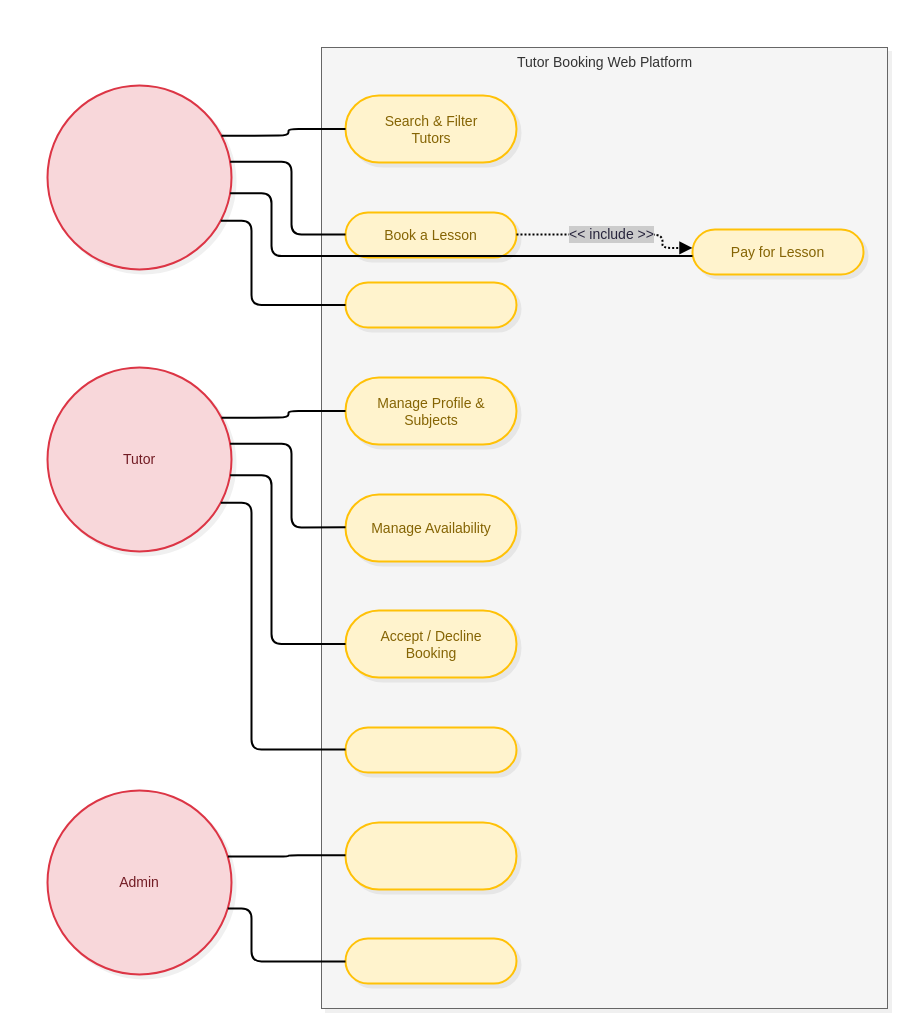
Some shapes in this 909 by 1030 pixel diagram are drawn without their labels. The shapes that lost their labels are listed below. From the top down, each one's centre as x and y in pixels, then its label:
the point at 141,179: Student
the point at 432,306: Leave a Review
the point at 432,751: Conduct Lesson
the point at 432,857: Verify Documents
the point at 432,962: Manage Users
